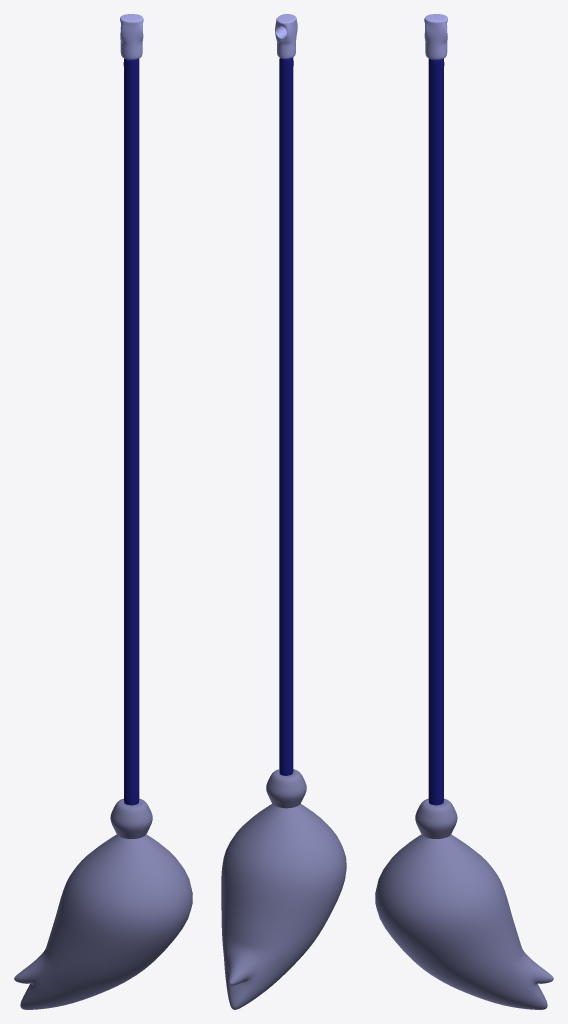
Rendered from Mop_Model.fbx.
3 renders of one model, left to right at view 1: azimuth 90°, elevation 25°; view 2: azimuth 150°, elevation 25°; view 3: azimuth 270°, elevation 25°, orthographic. The views are drawn at different scales.
Visible parts, largest first — view 1: Mop; view 2: Mop; view 3: Mop.
Part boxes in pixels (x1,y1,x2,y2): Mop: (14, 14, 192, 1009); Mop: (221, 14, 346, 1009); Mop: (375, 14, 553, 1009).
Bounding box in the file's own units: 4.88 × 41.34 × 6.75.
Materials: 1 (1 with a texture image).
